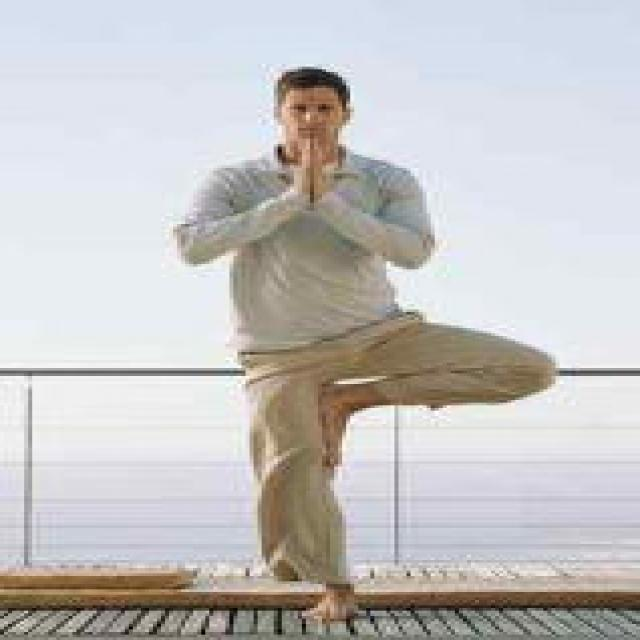yoga-pose tree: (172, 65, 559, 628)
